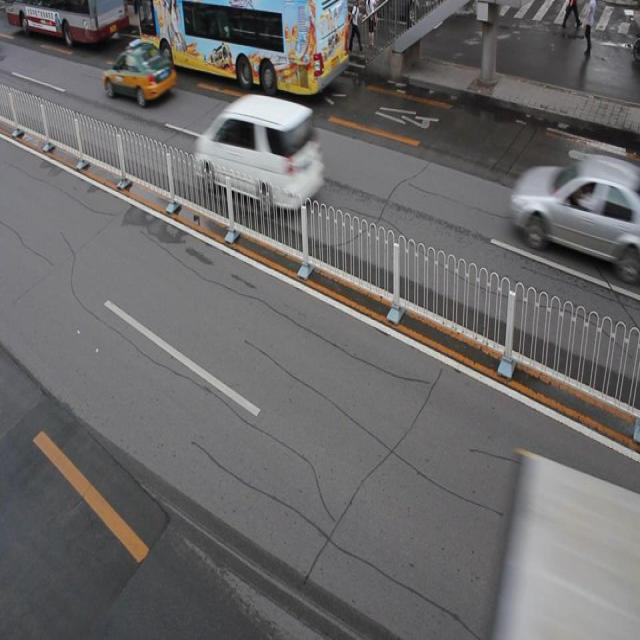car: (508, 150, 640, 266), (103, 41, 177, 106)
truck: (196, 93, 321, 216)
van: (137, 1, 347, 95), (0, 1, 128, 44)
